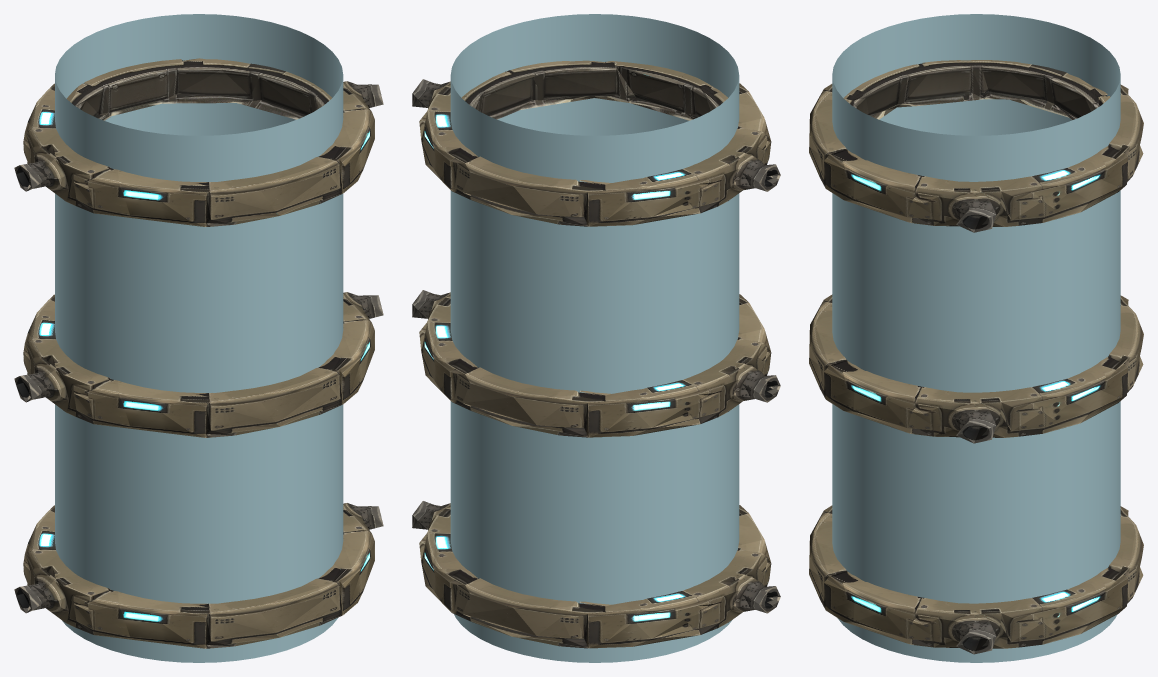
The model's file is reaktor-kozhuh.glb.
3 views of the same model, side by side, from view 1: azimuth 30°, elevation 25°; view 2: azimuth 150°, elevation 25°; view 3: azimuth 270°, elevation 25° (orthographic).
Parts seen in each view (by area): view 1: reaktor-kozhuh; view 2: reaktor-kozhuh; view 3: reaktor-kozhuh.
Part boxes in pixels (bbox=[...]): reaktor-kozhuh: bbox=[14, 14, 383, 662]; reaktor-kozhuh: bbox=[412, 14, 780, 662]; reaktor-kozhuh: bbox=[809, 14, 1143, 662].
Bounding box in the file's own units: 1.76 × 2.5 × 1.44.
2 materials, 1 textured.
